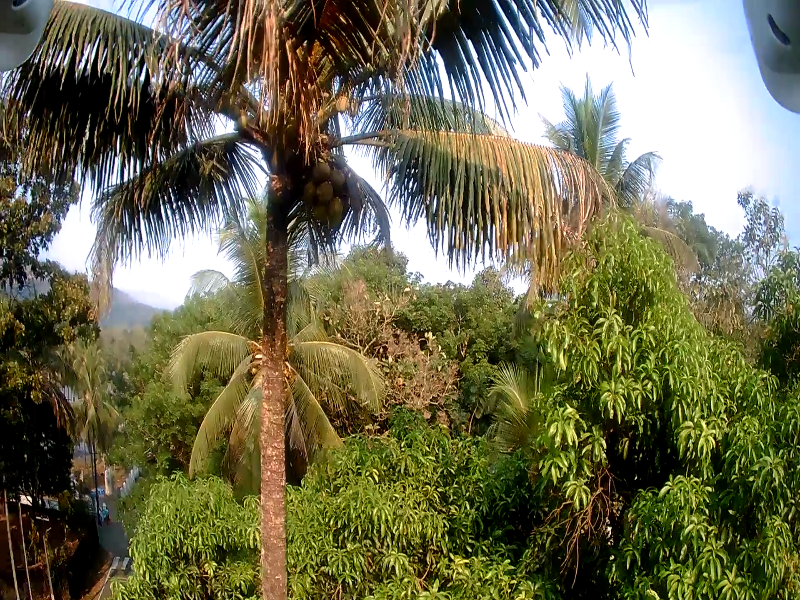coconut: (329, 197, 345, 220), (307, 180, 322, 203), (335, 94, 351, 115), (315, 181, 329, 199), (314, 160, 327, 179), (329, 169, 340, 183)
